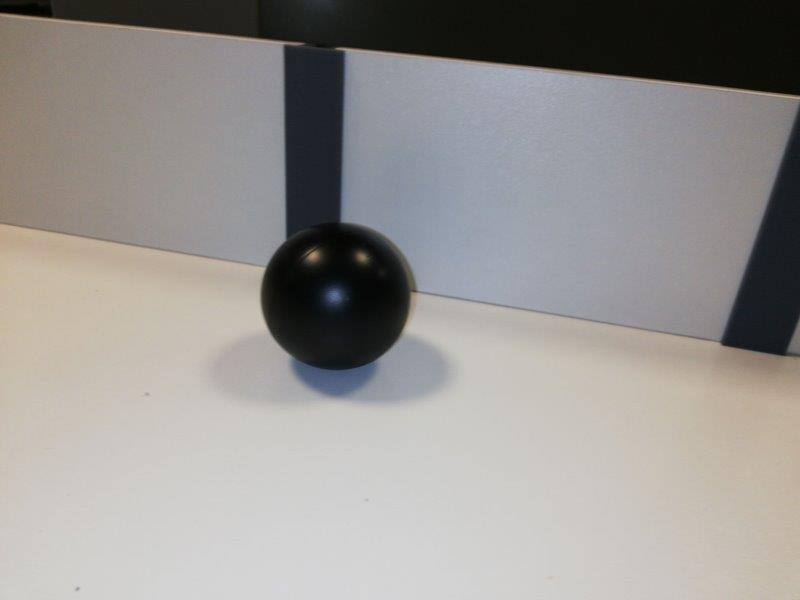nera: (259, 224, 411, 370)
